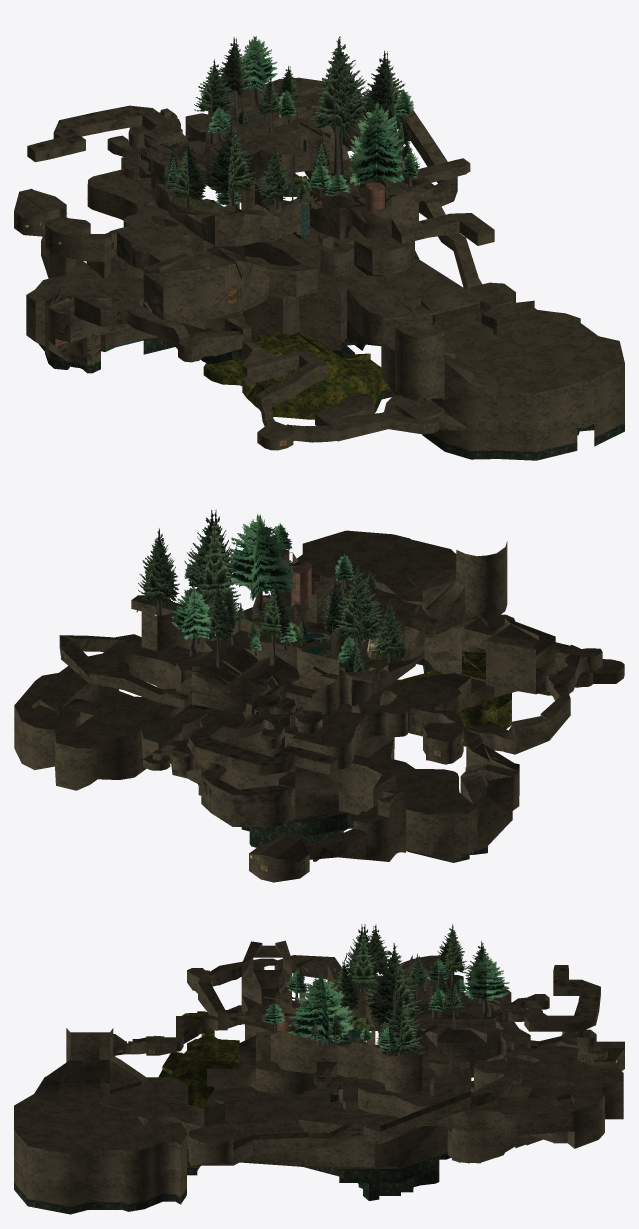
Rendered from blackburrow.glb.
3 views of the same model, one above another, from view 1: azimuth 30°, elevation 25°; view 2: azimuth 150°, elevation 25°; view 3: azimuth 270°, elevation 25° (orthographic). The views are drawn at different scales.
Parts seen in each view (by area): view 1: blackburrow, holepine (×8), cedar1 (×2); view 2: blackburrow, holepine (×7), cedar1 (×2); view 3: blackburrow, holepine (×8), cedar1 (×2).
Boxes of the visible parts, x1,y1,x2,y2 form: blackburrow: [14, 77, 624, 460]; holepine (×8): [168, 36, 407, 227]; cedar1 (×2): [240, 36, 404, 186]; blackburrow: [14, 530, 624, 882]; holepine (×7): [138, 509, 405, 684]; cedar1 (×2): [171, 514, 297, 656]; blackburrow: [14, 940, 624, 1214]; holepine (×8): [331, 924, 467, 1059]; cedar1 (×2): [288, 955, 509, 1045].
Size of the model in its own units: 60.28 by 42.75 by 88.57.
Materials: 105 (105 with a texture image).
